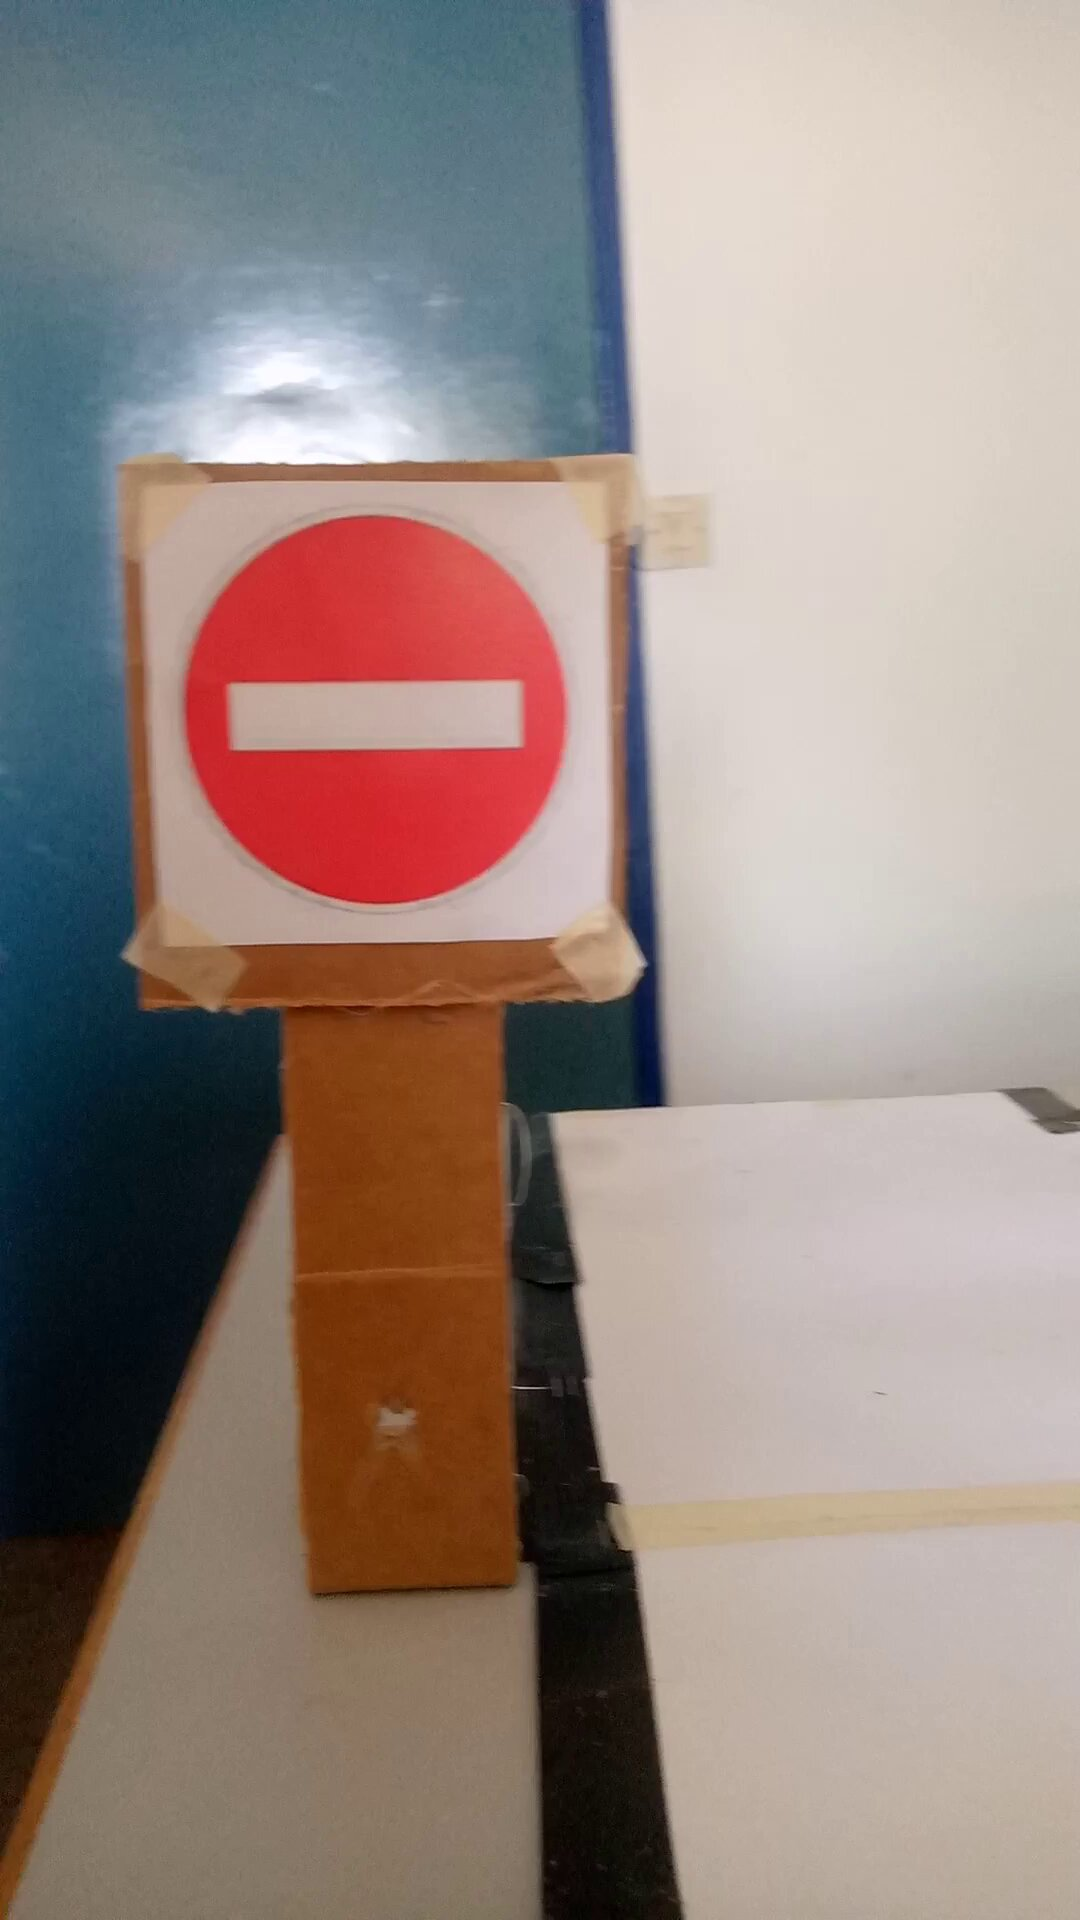panel010: (135, 473, 618, 960)
